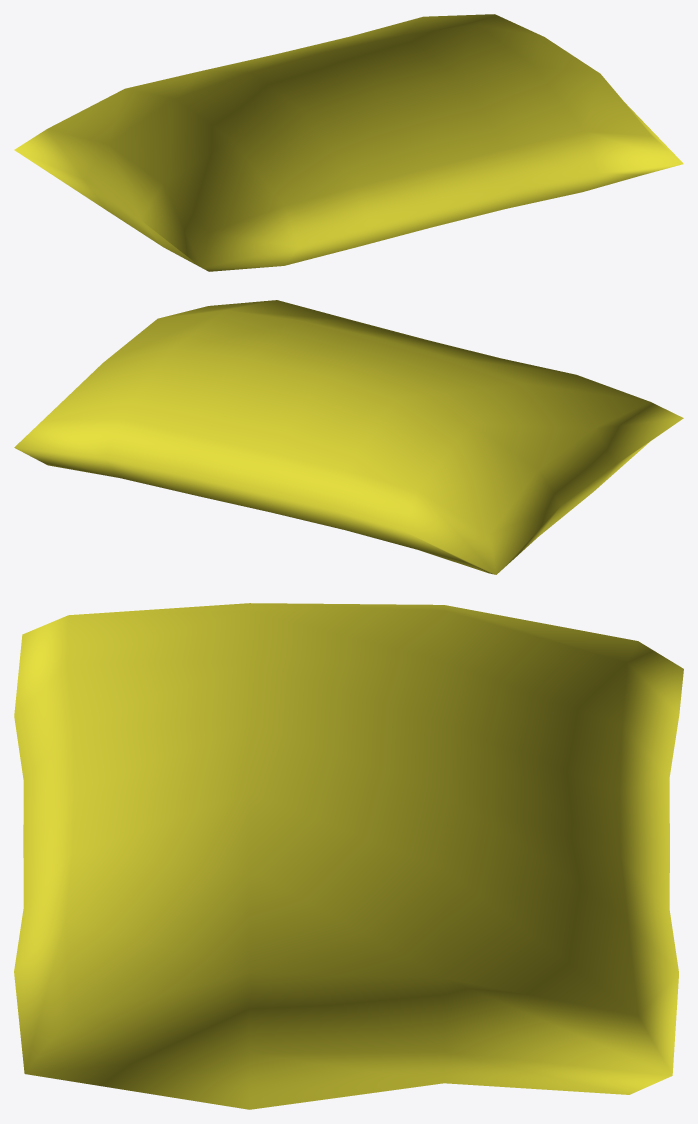
File: Pillow 7.fbx
3 views of the same model, one above another, from view 1: azimuth 30°, elevation 25°; view 2: azimuth 150°, elevation 25°; view 3: azimuth 270°, elevation 25° (orthographic). The views are drawn at different scales.
Visible parts, largest first — view 1: Node 0; view 2: Node 0; view 3: Node 0.
Boxes of the visible parts, x1,y1,x2,y2 form: Node 0: [14, 14, 683, 271]; Node 0: [14, 300, 683, 574]; Node 0: [14, 603, 683, 1109].
Bounding box in the file's own units: 0.6077 × 0.237 × 0.898.
